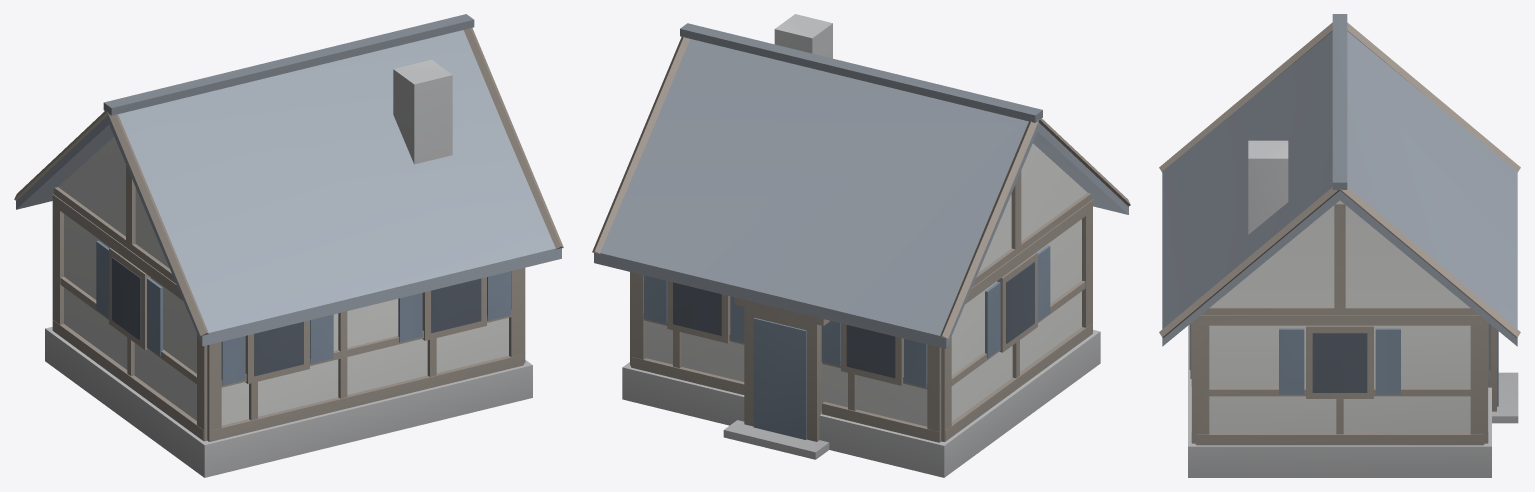
File: cottage_brine.gltf
The picture shows the model from 3 angles, left to right: view 1: azimuth 30°, elevation 25°; view 2: azimuth 150°, elevation 25°; view 3: azimuth 270°, elevation 25°; orthographic projection. The views are drawn at different scales.
Visible parts, largest first — view 1: Body; view 2: Body; view 3: Body.
Part boxes in pixels (x1=…): Body: x1=14, y1=14, x2=563, y2=477; Body: x1=592, y1=14, x2=1130, y2=477; Body: x1=1159, y1=14, x2=1520, y2=477.
Bounding box in the file's own units: 6.97 × 5.84 × 6.32.
